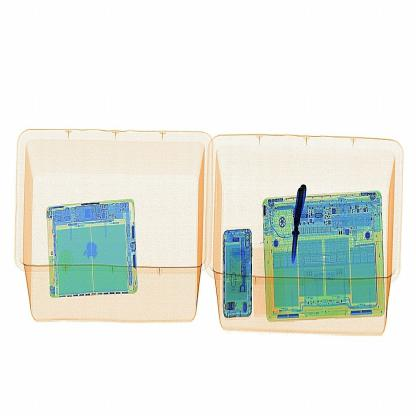gun: (286, 174, 312, 271)
